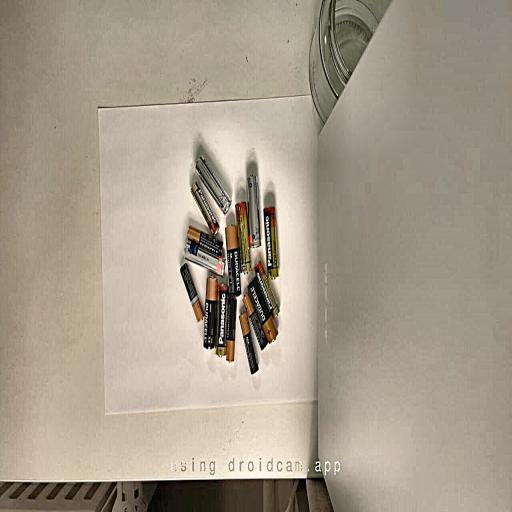DuracellAA: (247, 277, 278, 343), (225, 224, 241, 297), (204, 276, 218, 348)
DuracellAAA: (243, 292, 267, 350), (180, 264, 204, 321), (240, 311, 258, 374), (187, 225, 222, 255), (226, 297, 236, 361)
PanasonicAA: (235, 202, 251, 272), (264, 206, 279, 278), (215, 284, 229, 356)
PanasonicAAA: (191, 182, 219, 234), (255, 260, 279, 316)
RainbowAA: (196, 154, 231, 213), (184, 242, 225, 276), (247, 174, 261, 247)
